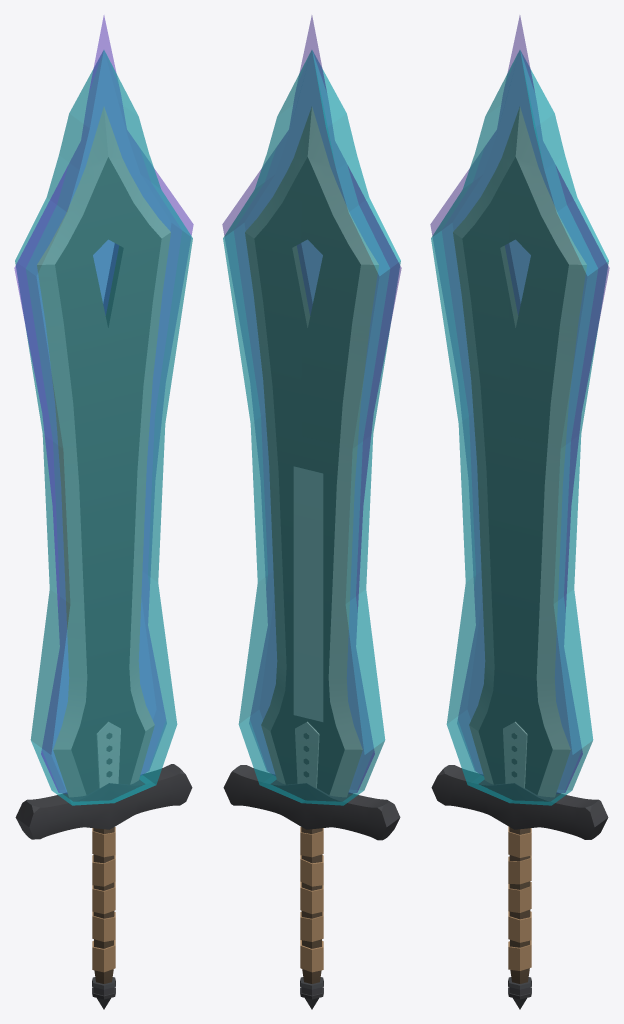
File: rpg_sword_07.glb
The picture shows the model from 3 angles, left to right: view 1: azimuth 30°, elevation 25°; view 2: azimuth 150°, elevation 25°; view 3: azimuth 330°, elevation 25°; orthographic projection.
Visible parts, largest first — view 1: skin_enchant_layer_1, Sword_07, skin_enchant_layer_2; view 2: skin_enchant_layer_1, Sword_07, skin_enchant_layer_2, skin_runes_1; view 3: skin_enchant_layer_1, Sword_07, skin_enchant_layer_2.
Part boxes in pixels (<box>): skin_enchant_layer_1: <box>15,50,192,805</box>; Sword_07: <box>15,107,192,1009</box>; skin_enchant_layer_2: <box>14,15,193,793</box>; skin_enchant_layer_1: <box>223,50,400,805</box>; Sword_07: <box>223,107,400,1009</box>; skin_enchant_layer_2: <box>222,15,401,793</box>; skin_runes_1: <box>294,466,322,721</box>; skin_enchant_layer_1: <box>431,50,608,805</box>; Sword_07: <box>431,107,608,1009</box>; skin_enchant_layer_2: <box>430,15,609,793</box>.
Size of the model in its own units: 0.2366 by 1.26 by 0.0491.
Materials: 4 (1 with a texture image).
